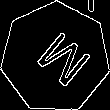M_SW: (22, 23, 88, 92)
